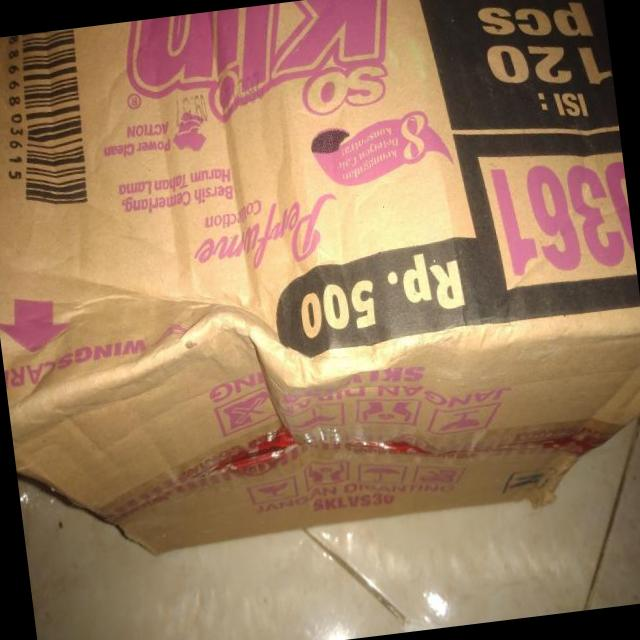box: (161, 109, 553, 487)
normal_hole: (220, 263, 259, 297)
